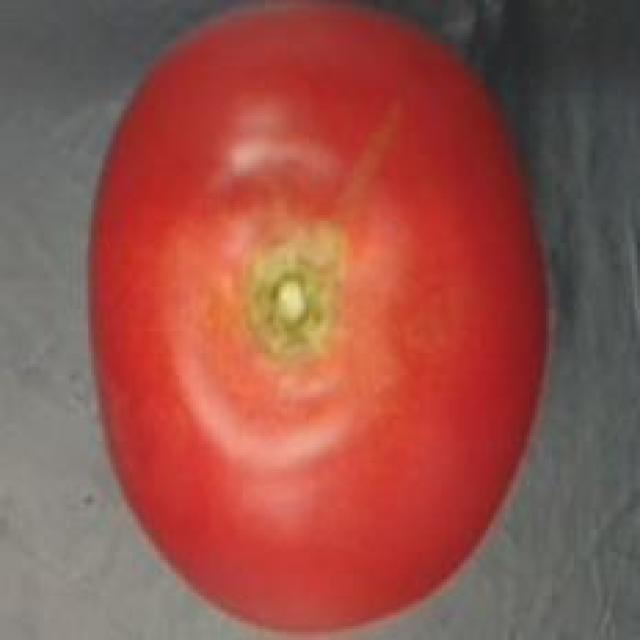ripe tomato: (83, 0, 560, 640)
